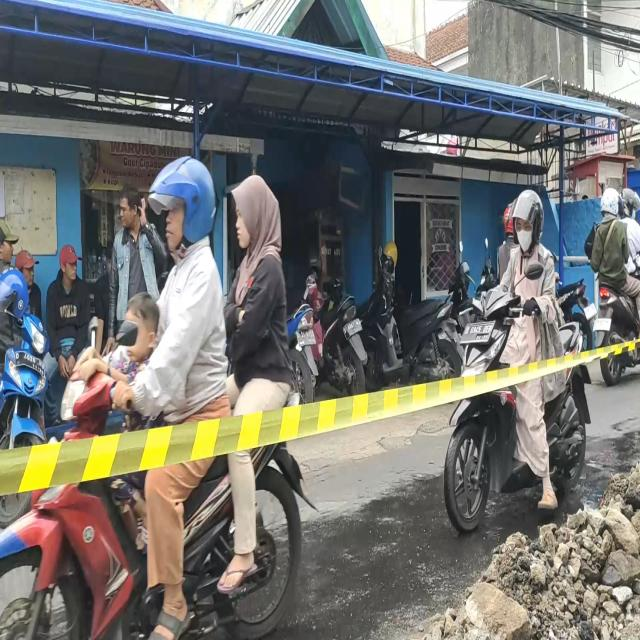helmet: (161, 160, 212, 254), (511, 192, 545, 244), (602, 186, 622, 224), (624, 184, 640, 224)
no-helmet: (233, 178, 283, 260), (125, 297, 159, 351)
